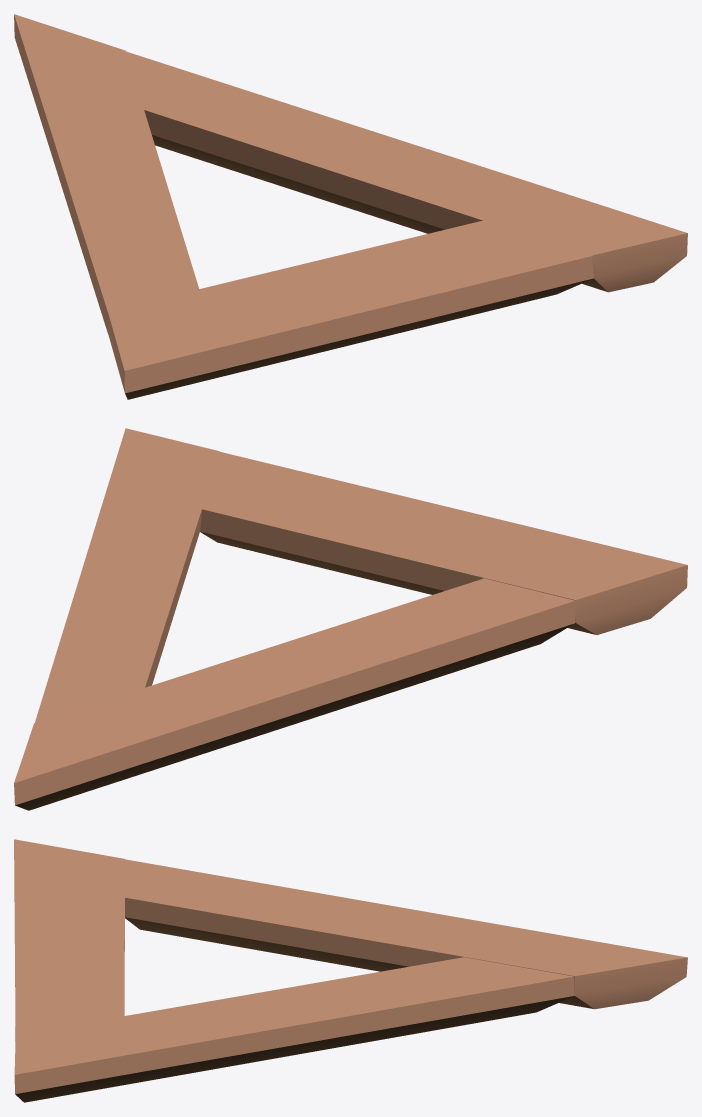
The model's file is w45_wood_2_pineSplitLogTriFloorSection1.glb.
3 views of the same model, one above another, from view 1: azimuth 30°, elevation 25°; view 2: azimuth 150°, elevation 25°; view 3: azimuth 270°, elevation 25° (orthographic). The views are drawn at different scales.
Visible parts, largest first — view 1: Outside; view 2: Outside; view 3: Outside.
Part boxes in pixels (x1,y1,x2,y2): Outside: [14, 14, 687, 399]; Outside: [14, 428, 687, 810]; Outside: [14, 839, 687, 1102].
Bounding box in the file's own units: 1.55 × 0.1233 × 1.87.
